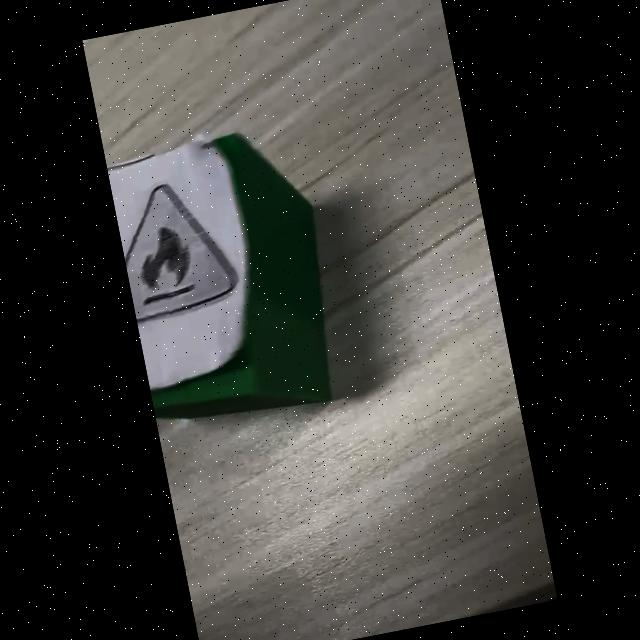Fire: (125, 184, 236, 322)
